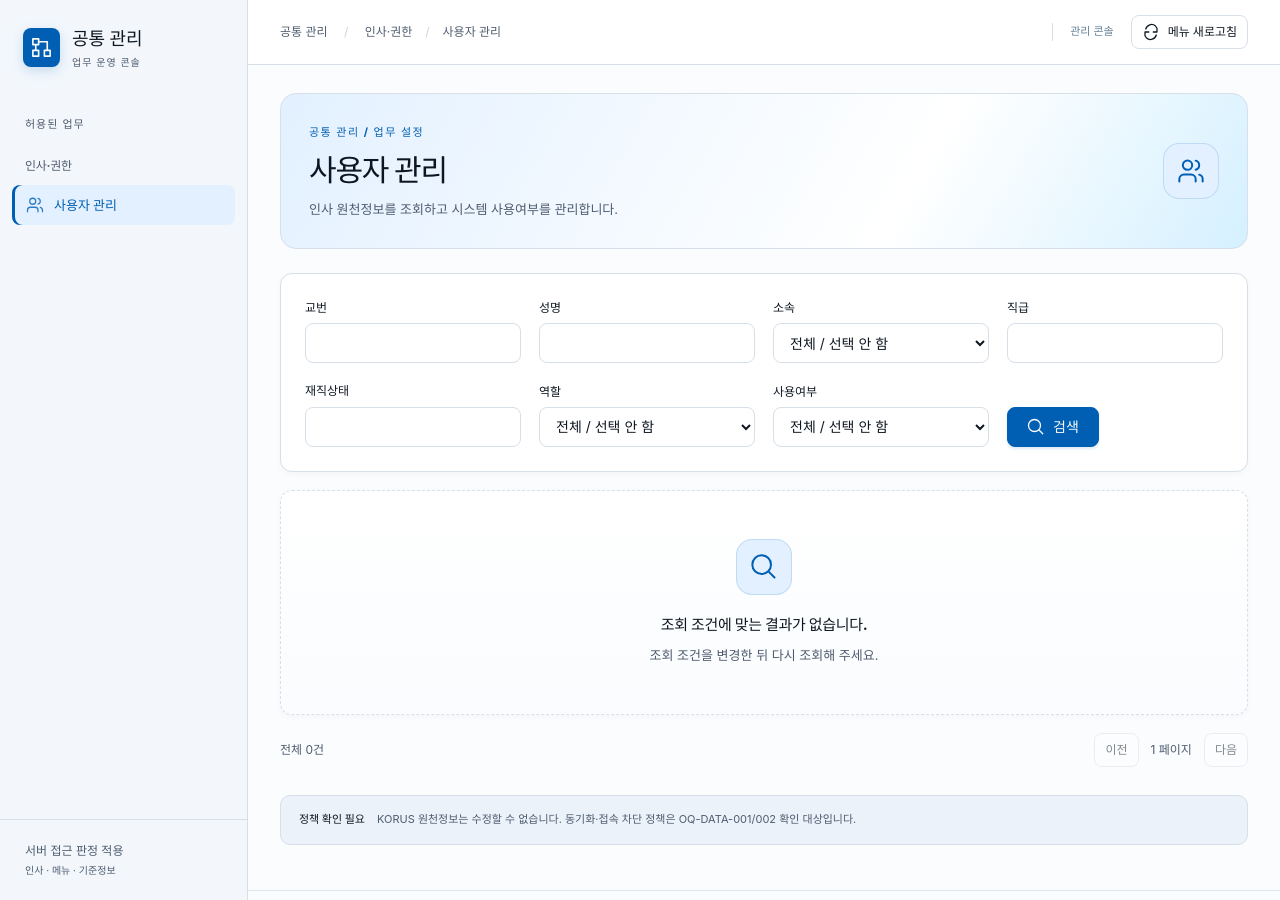
Scenario: 조회 field_errors는 검색 필드에 연결하고 입력과 GET 재시도를 보존한다
This screenshot has width=1280, height=900.
Expected: the heading "조회 조건에 맞는 결과가 없습니다." is shown, [661,615,867,634]
Type "invalid" into the field named "교번 조회" at coordinates (413, 343), box [305,323,521,363]
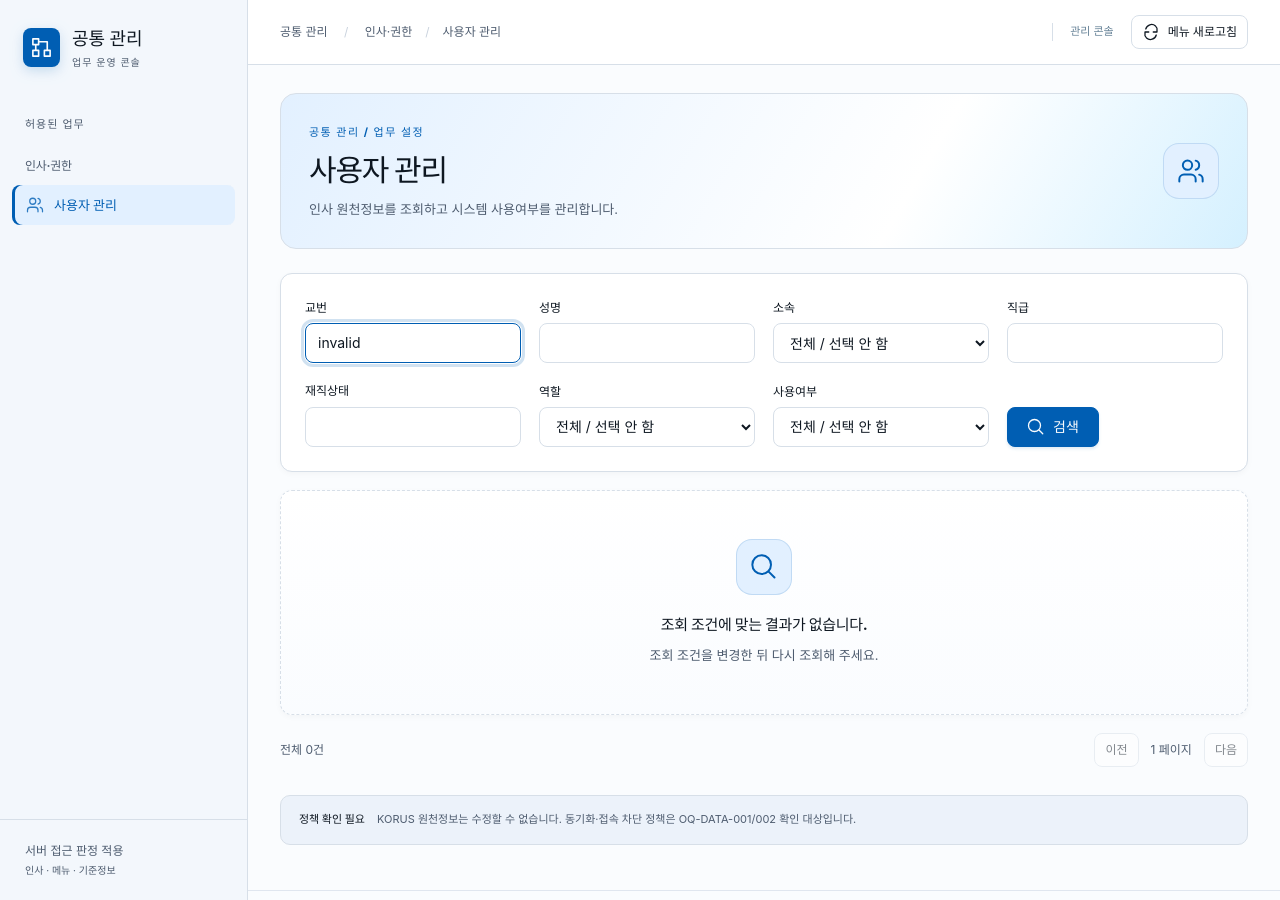
Select "사용" in the dropdown named "사용여부 조회" at coordinates (881, 427), box [773,407,989,447]
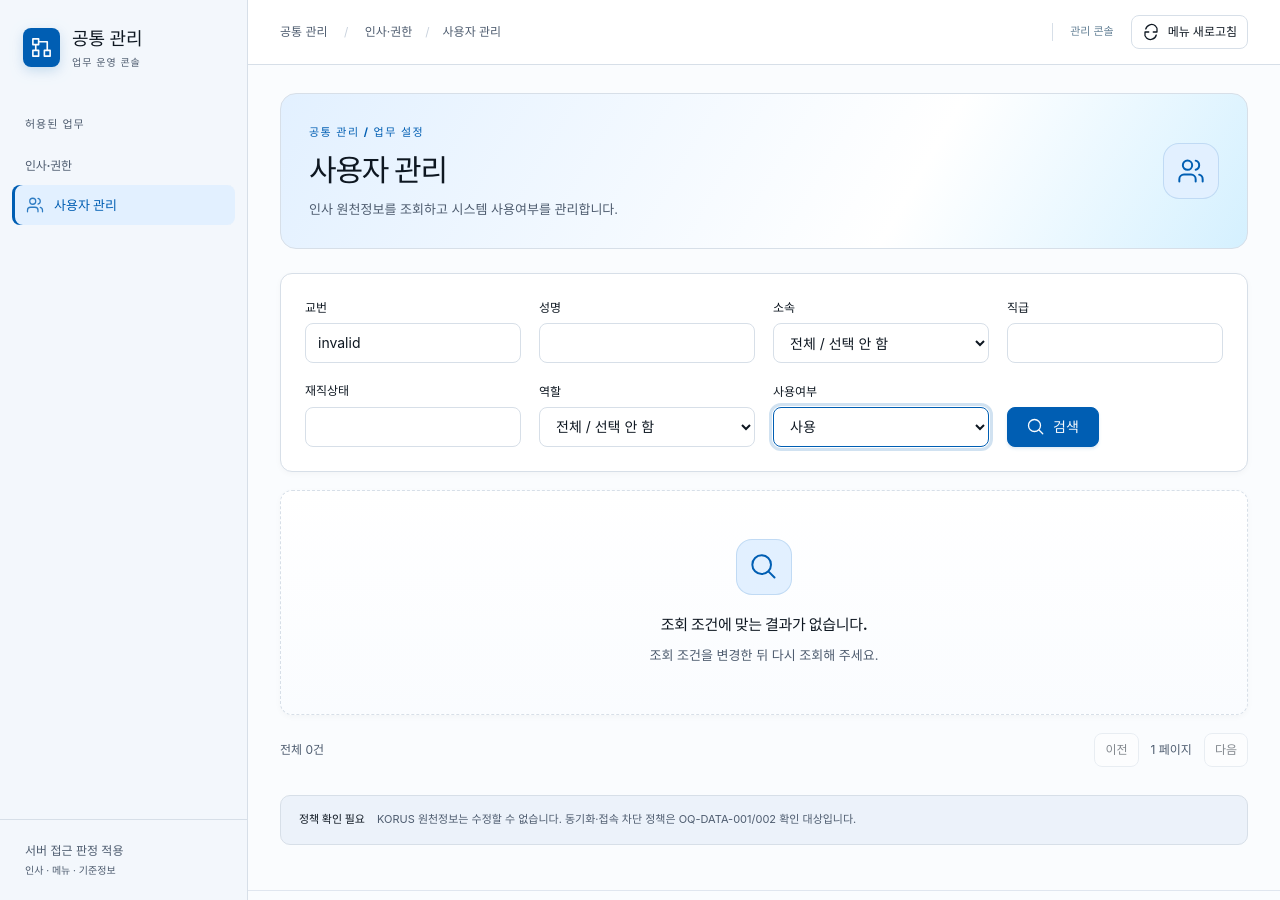
Click the button "검색" at coordinates (1053, 427), box [1007,406,1099,447]
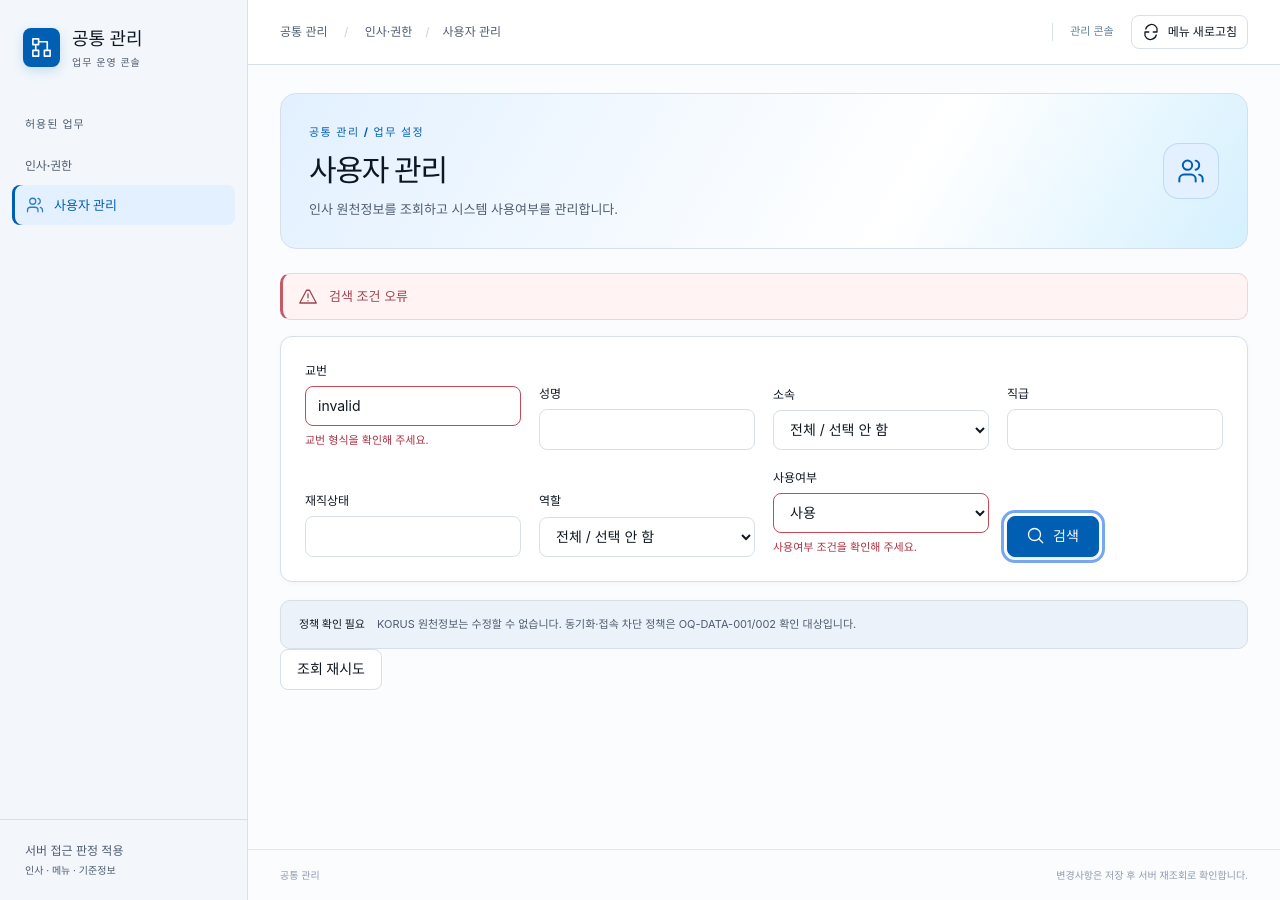
Result: the text "검색 조건 오류" is shown at [329,286,408,307]
Click the button "조회 재시도" at coordinates (331, 670), box [280,649,382,690]
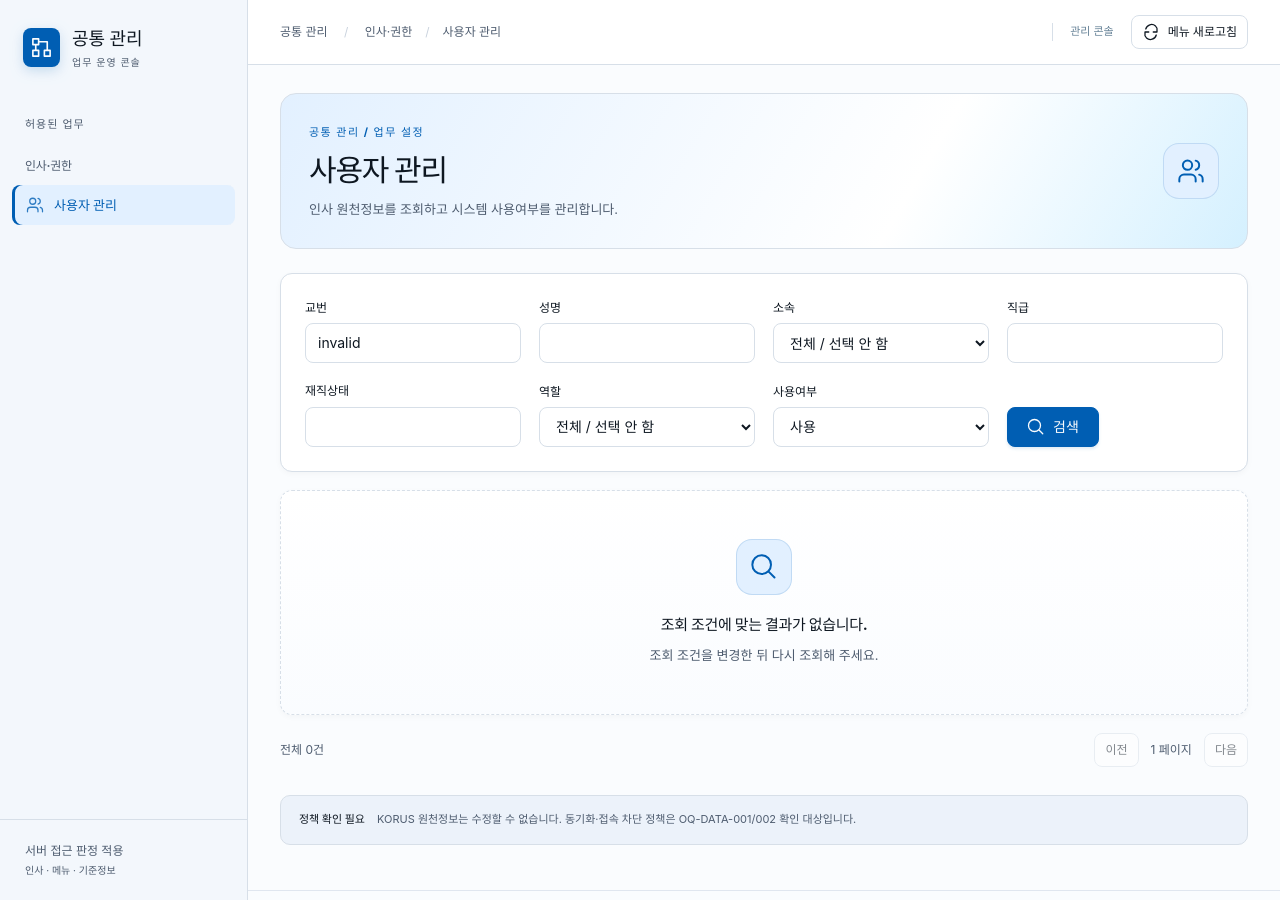
Result: the heading "조회 조건에 맞는 결과가 없습니다." is shown at [661,615,867,634]
Result: the text "교번 형식을 확인해 주세요." is gone
